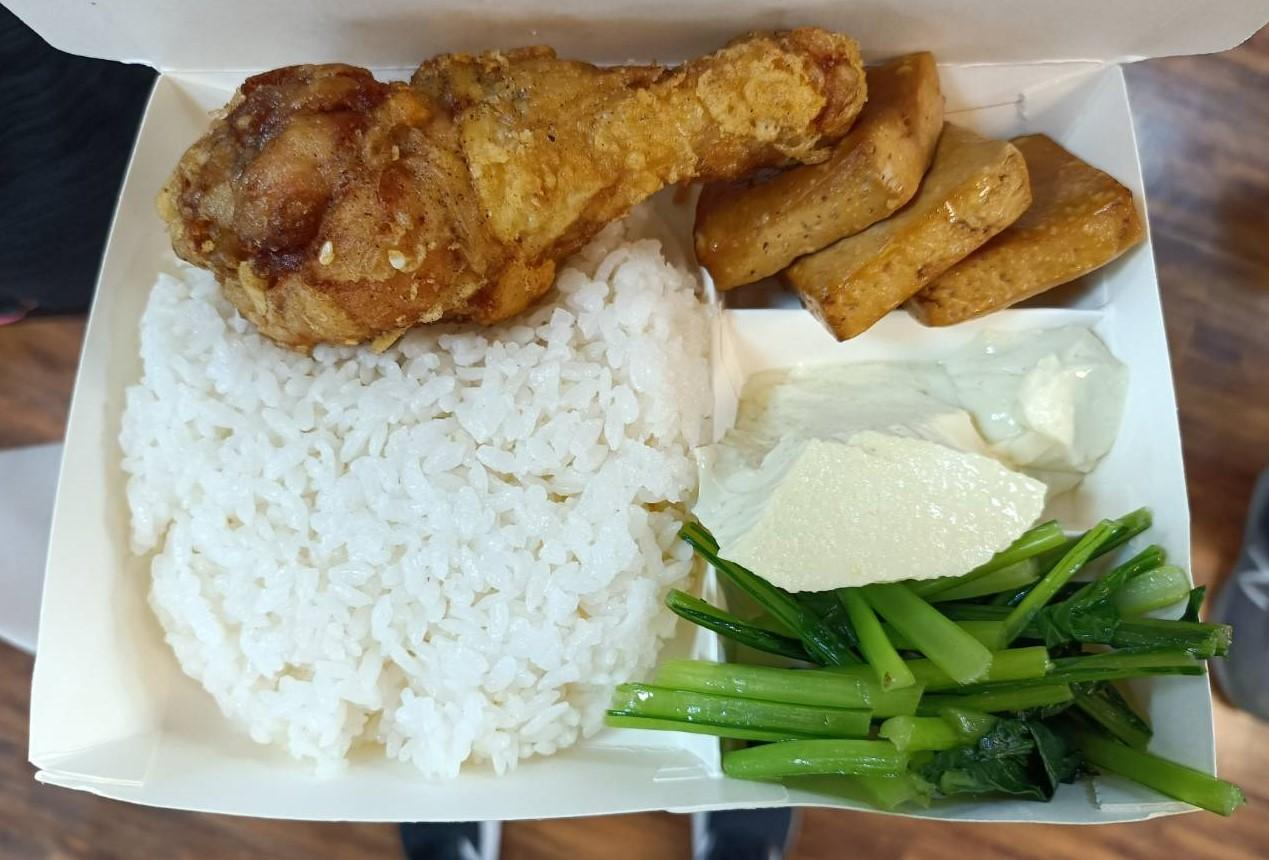big grilled chicken leg: (30, 44, 1240, 843)
big herbal chicken leg: (130, 232, 706, 785)
braised fish fillet: (680, 543, 1205, 814), (720, 60, 1143, 334), (712, 328, 1152, 589)
braised pork: (168, 18, 864, 347)
